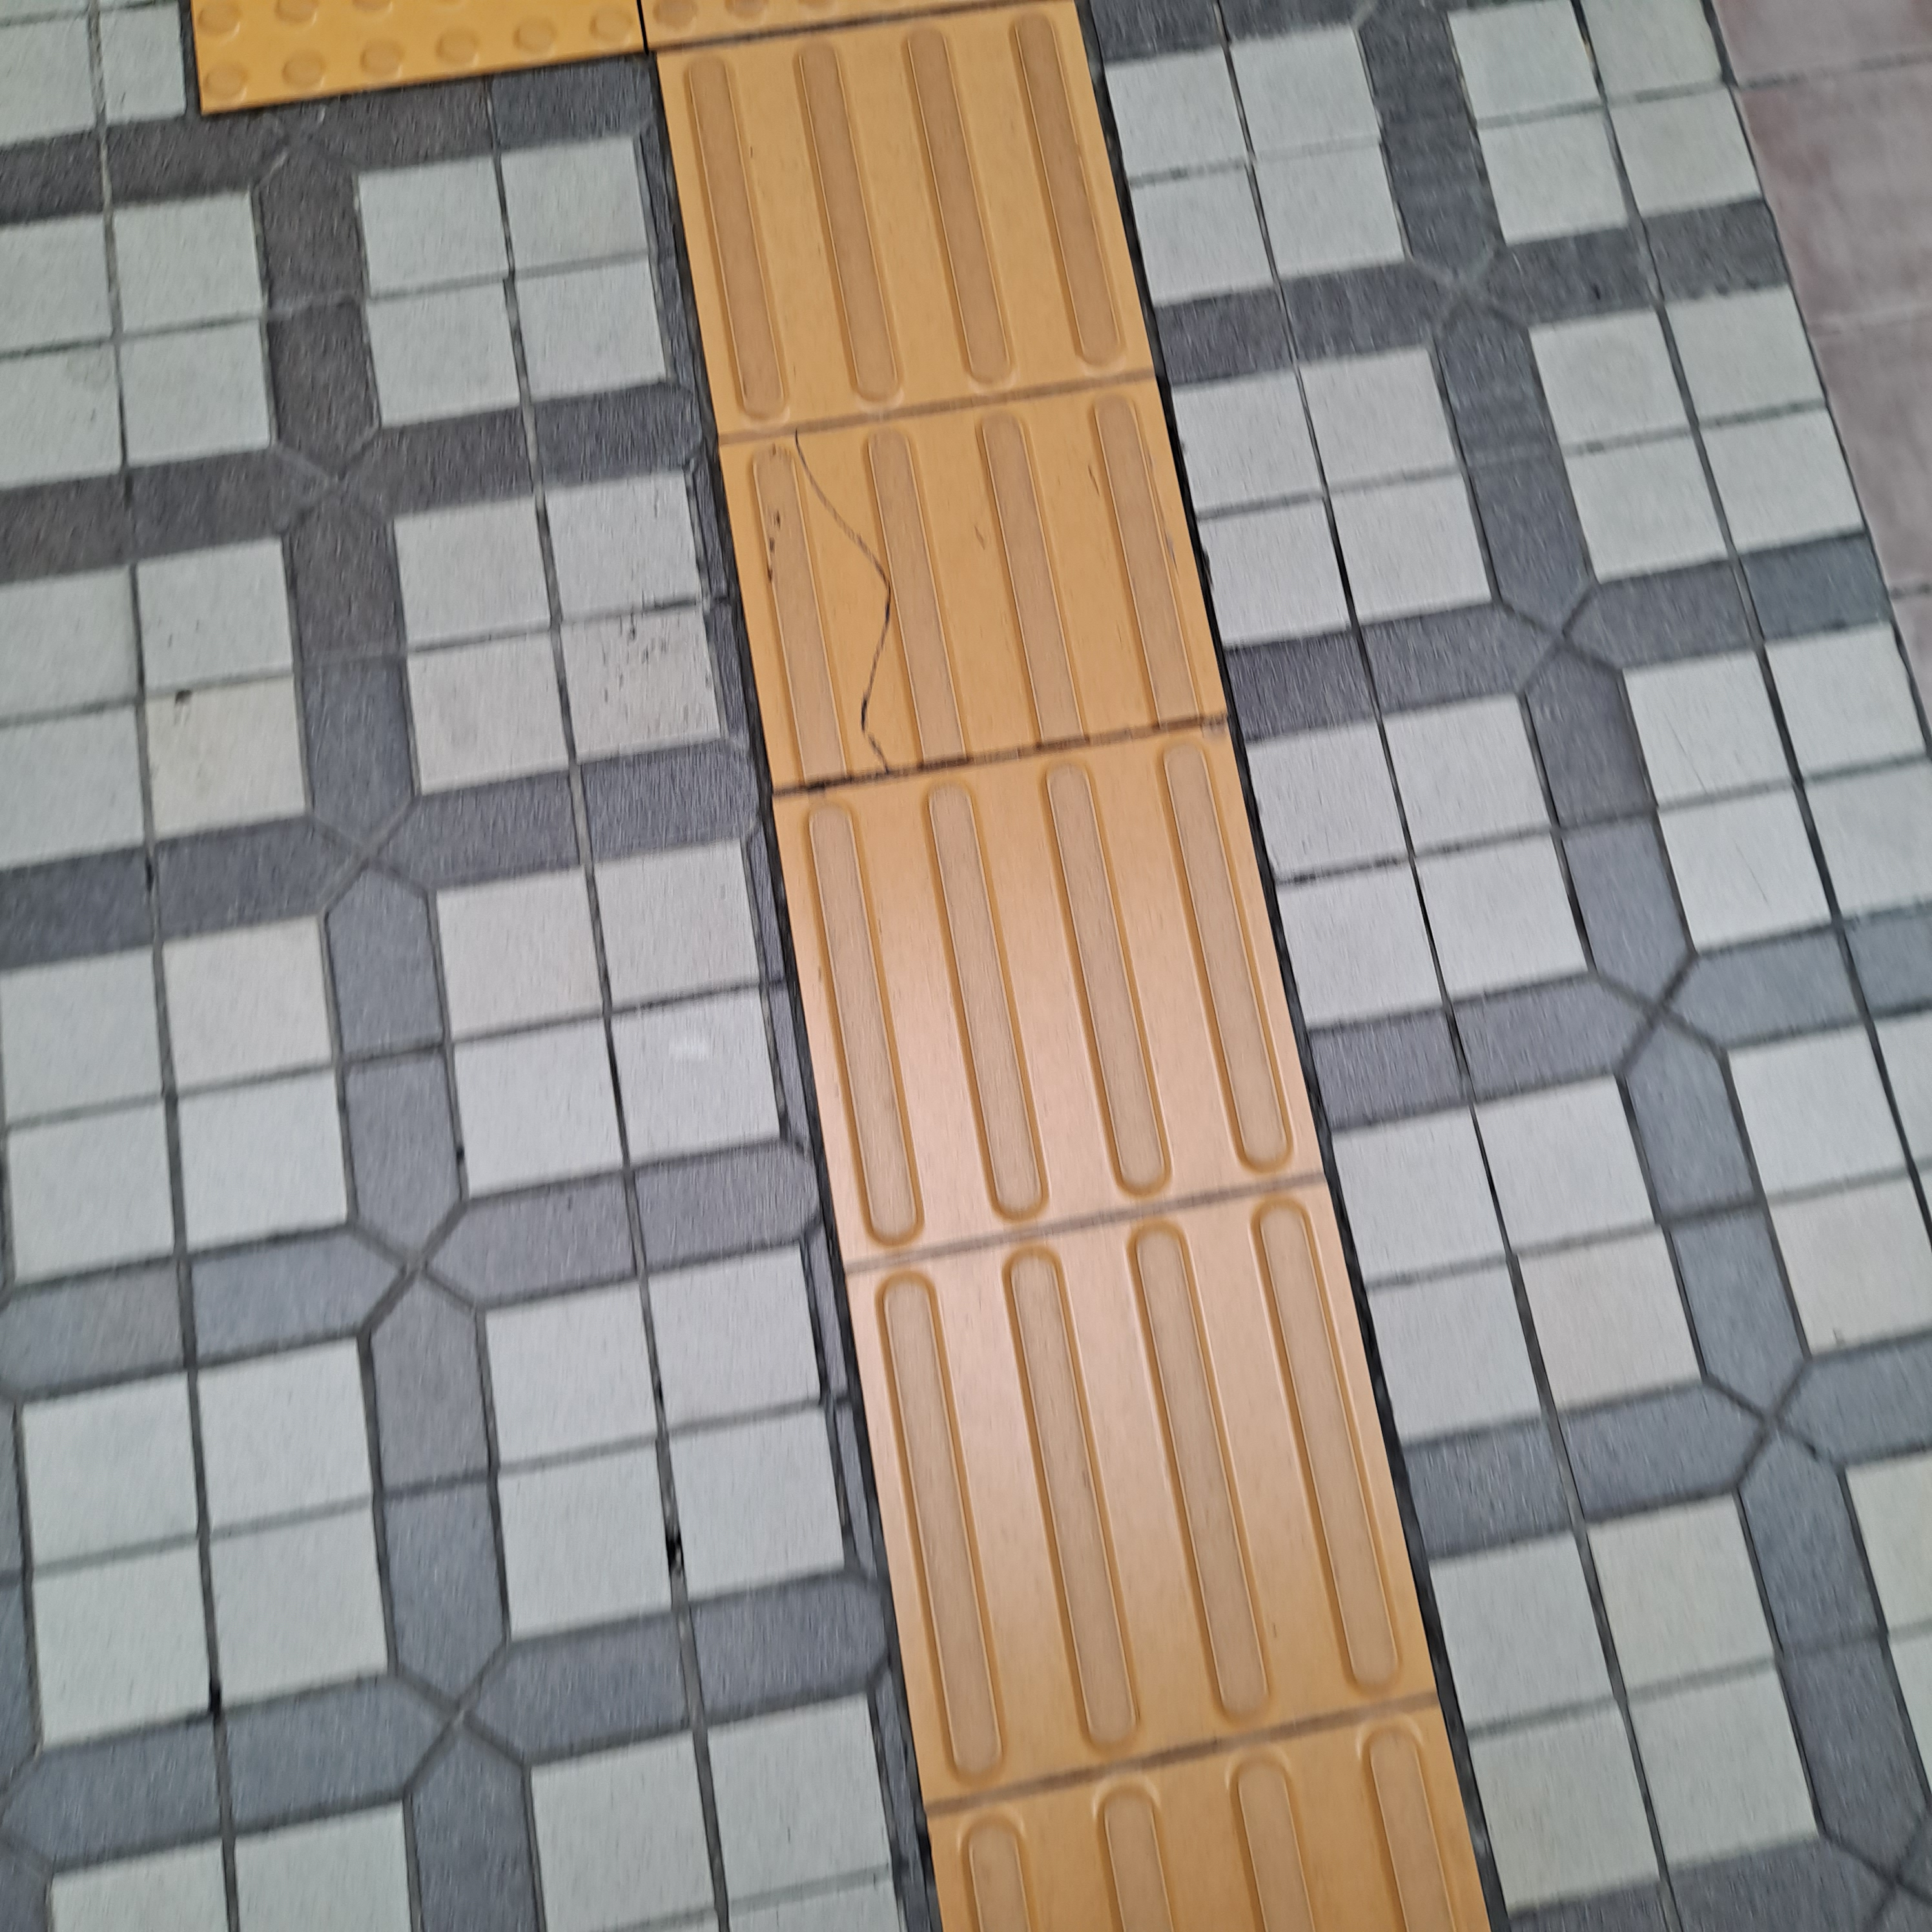guideBlock: (886, 1249, 1461, 1739), (771, 789, 1327, 1198), (708, 379, 1178, 839), (676, 25, 1115, 400)
